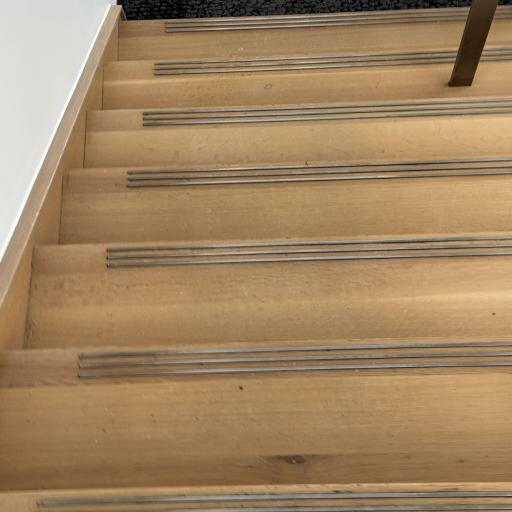Stairs: (0, 6, 512, 512)
